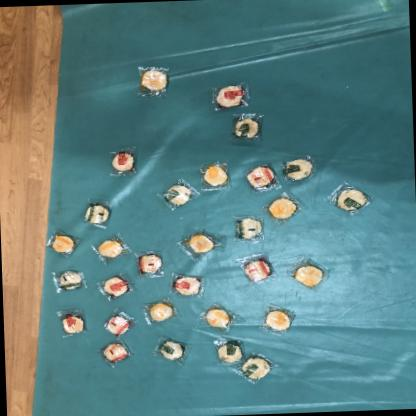green_setoshio: (326, 184, 371, 219), (275, 152, 322, 184), (233, 353, 276, 385), (226, 112, 268, 143), (150, 334, 190, 366), (158, 178, 196, 211), (209, 336, 247, 368), (80, 198, 116, 228), (49, 267, 85, 295), (233, 215, 264, 243)
red_setoshio: (236, 254, 276, 286), (208, 82, 252, 111), (54, 306, 91, 340), (241, 160, 279, 192), (100, 308, 138, 338), (105, 146, 139, 176), (95, 273, 131, 301), (98, 340, 132, 368), (170, 271, 206, 297), (134, 251, 166, 280)
yellow_setoshio: (133, 62, 174, 100), (262, 191, 306, 224), (289, 258, 330, 292), (176, 229, 220, 260), (44, 226, 84, 260), (92, 232, 134, 262), (198, 301, 236, 334), (196, 162, 235, 192), (263, 304, 295, 334), (143, 298, 175, 326)
